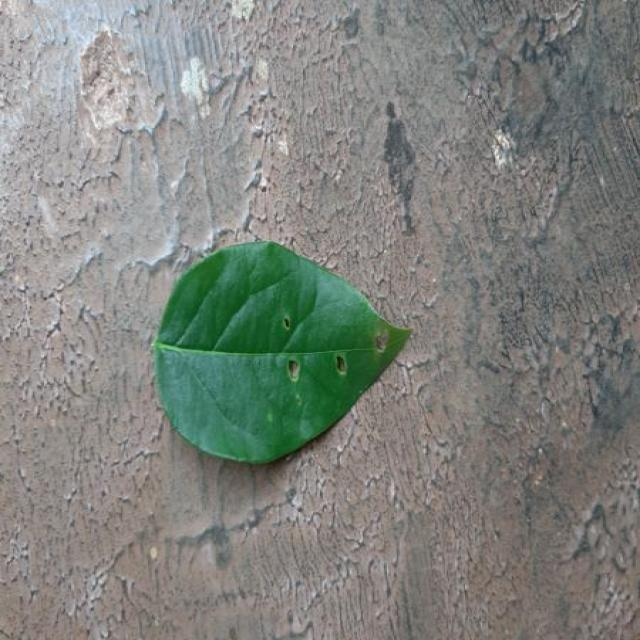amla: (153, 241, 410, 463)
disease in leaf: (180, 241, 410, 463)
